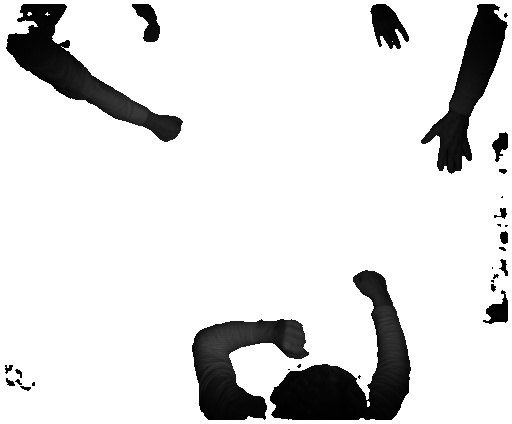fist: (270, 315, 318, 363), (352, 264, 391, 303), (154, 114, 183, 143), (144, 24, 159, 47)
hand: (421, 119, 471, 175), (368, 8, 415, 55)
